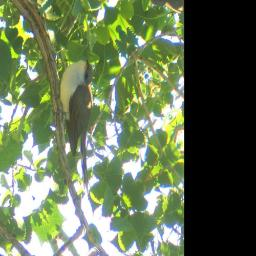Cuckoo: (33, 49, 138, 196)
